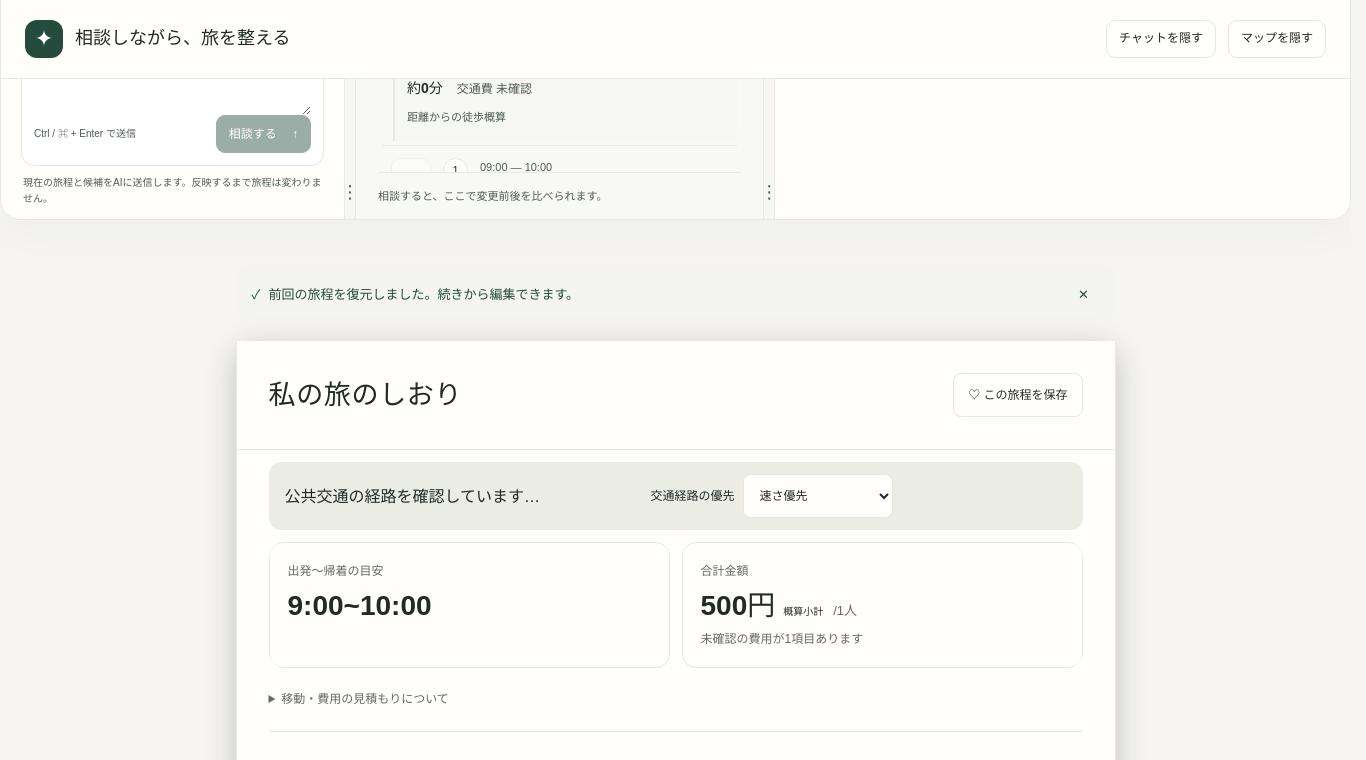
Test case: SearchMode selected route › saves a legacy draft as a new card when its original favorite is no longer present
(page scrolled)
Click the button "♡ この旅程を保存".
click(1018, 396)  # box [953,374,1082,418]
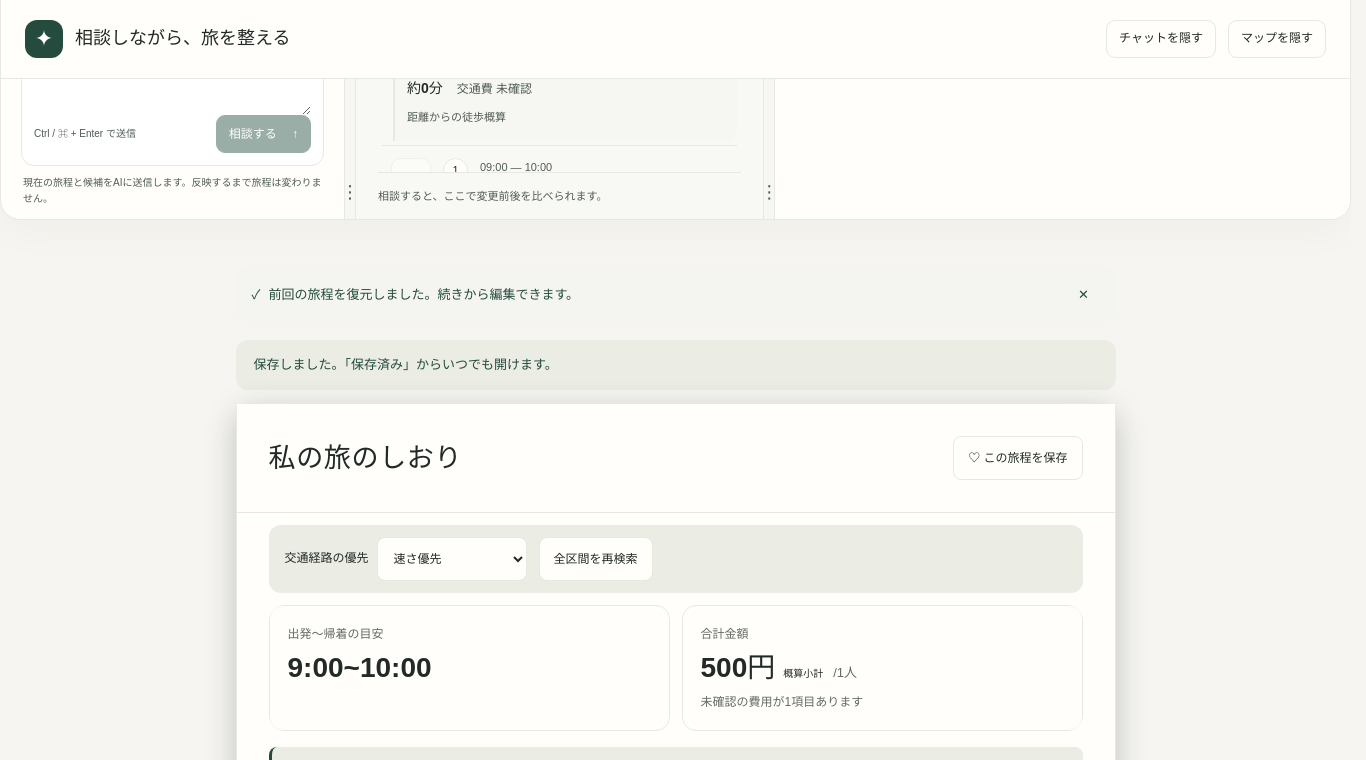
expect the text "保存しました。「保存済み」からいつでも開けます。" is shown: met, box [236,340,1116,390]
